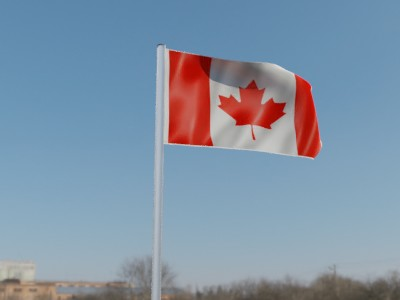Canada flag: (165, 50, 326, 160)
